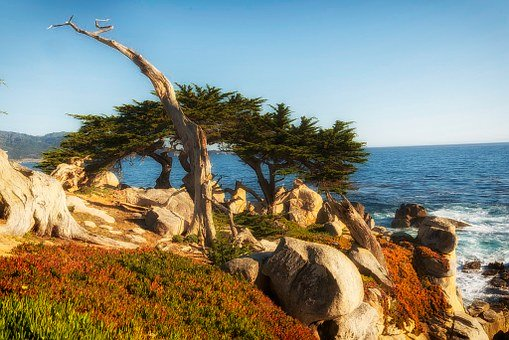sea: (358, 117, 509, 315)
sky: (5, 1, 509, 105)
stone: (10, 177, 456, 337)
tree: (80, 87, 372, 221)
